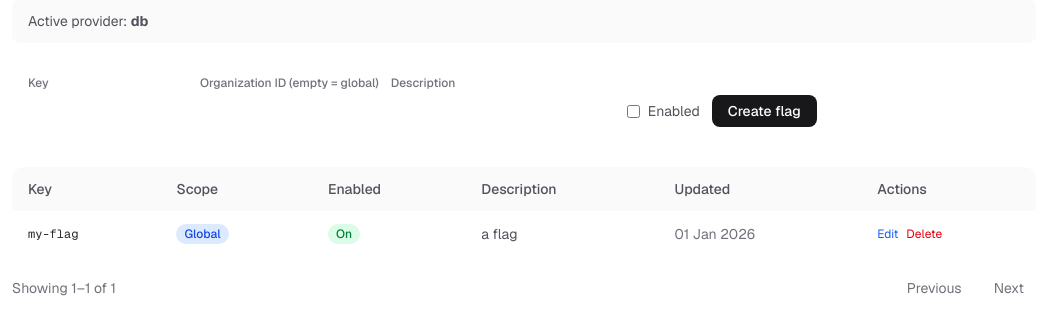
Test: FeatureFlagsClient › surfaces a toggle failure instead of silently reverting to On/Off
expect the text "my-flag" is shown: met, box x1=12 y1=211 x2=160 y2=256
Click the button "On" at (344, 234), box x1=328 y1=224 x2=360 y2=244
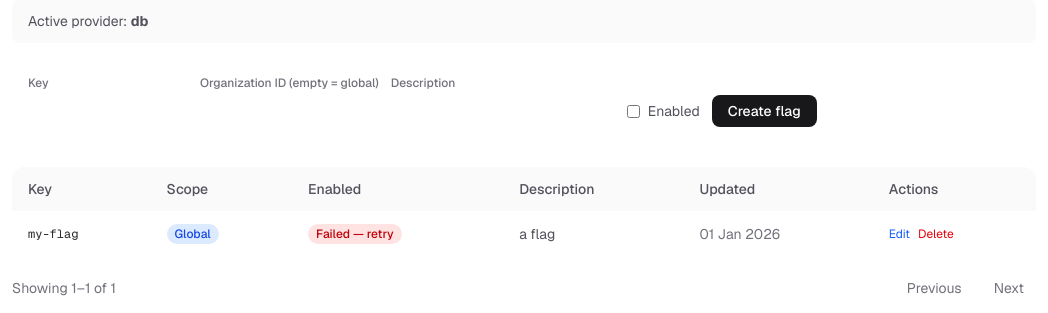
expect the button "Failed — retry" is shown: met, box x1=308 y1=224 x2=402 y2=244
